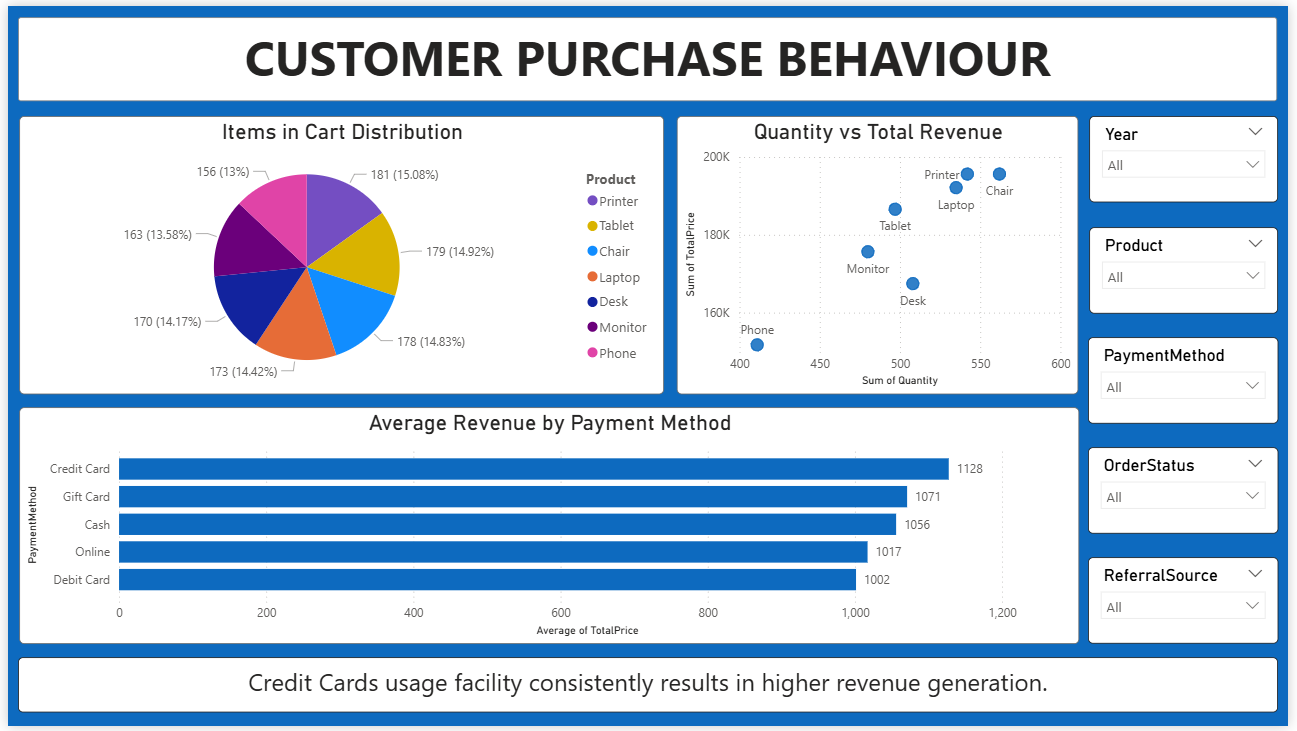

The page's visual inventory and layout, read from the dashboard file:
{"tool":"powerbi","page":{"name":"Page 6","canvas":[1280,720],"ordinal":5},"visuals":[{"type":"textbox","box":[10.1,11.5,1259.5,83.7],"z":0},{"type":"textbox","box":[10,651.7,1260,55],"z":1000},{"type":"slicer","fields":{"Values":["E-Commerce Orders.Date.Variation.Date Hierarchy.Year"]},"box":[1080.6,109.6,189,86.6],"z":2000},{"type":"pieChart","title":"Items in Cart Distribution","fields":{"Category":["E-Commerce Orders.Product"],"Y":["CountNonNull(E-Commerce Orders.ItemsInCart)"]},"box":[11.7,110,645,278.3],"z":3000},{"type":"slicer","fields":{"Values":["E-Commerce Orders.Product"]},"box":[1080.9,220.9,189.1,86.4],"z":4000},{"type":"slicer","fields":{"Values":["E-Commerce Orders.PaymentMethod"]},"box":[1080,331.8,190,86.4],"z":5000},{"type":"slicer","fields":{"Values":["E-Commerce Orders.OrderStatus"]},"box":[1080,441.8,190,86.4],"z":6000},{"type":"slicer","fields":{"Values":["E-Commerce Orders.ReferralSource"]},"box":[1080,551.7,190,86.7],"z":7000},{"type":"barChart","title":"Average Revenue by Payment Method","fields":{"Category":["E-Commerce Orders.PaymentMethod"],"Y":["Avg(E-Commerce Orders.TotalPrice)"]},"box":[11.7,401.7,1060,236.7],"z":8000},{"type":"scatterChart","title":"Quantity vs Total Revenue","fields":{"Y":["Sum(E-Commerce Orders.TotalPrice)"],"X":["E-Commerce Orders.Quantity"],"Category":["E-Commerce Orders.Product"]},"box":[668.3,110,401.7,278.3],"z":9000}]}

Visuals, with their boxes in screenshot pixels (x1, y1, x2, y2), scaled from the page's 1280x720 canvas onto the 1297x731 screenshot:
textbox: <box>10,12,1286,97</box>
textbox: <box>10,662,1287,717</box>
slicer - E-Commerce Orders.Date.Variation.Date Hierarchy.Year: <box>1095,111,1286,199</box>
"Items in Cart Distribution" pieChart: <box>12,112,665,394</box>
slicer - E-Commerce Orders.Product: <box>1095,224,1287,312</box>
slicer - E-Commerce Orders.PaymentMethod: <box>1094,337,1287,425</box>
slicer - E-Commerce Orders.OrderStatus: <box>1094,449,1287,536</box>
slicer - E-Commerce Orders.ReferralSource: <box>1094,560,1287,648</box>
"Average Revenue by Payment Method" barChart: <box>12,408,1086,648</box>
"Quantity vs Total Revenue" scatterChart: <box>677,112,1084,394</box>
